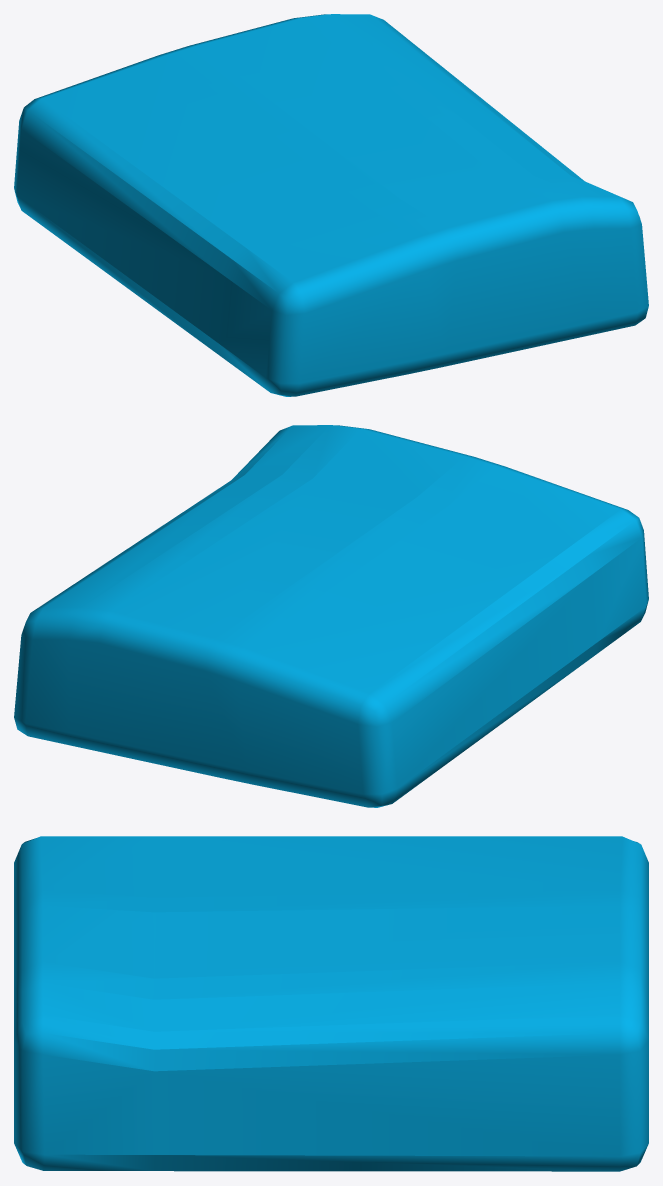
Rendered from Sofa_01_Break_C_Lod0.fbx.
3 views of the same model, one above another, from view 1: azimuth 30°, elevation 25°; view 2: azimuth 150°, elevation 25°; view 3: azimuth 270°, elevation 25° (orthographic). The views are drawn at different scales.
Parts seen in each view (by area): view 1: Sofa_01_Break_C_Lod0; view 2: Sofa_01_Break_C_Lod0; view 3: Sofa_01_Break_C_Lod0.
Part boxes in pixels (<box>): Sofa_01_Break_C_Lod0: <box>14,14,648,396</box>; Sofa_01_Break_C_Lod0: <box>14,425,648,807</box>; Sofa_01_Break_C_Lod0: <box>14,836,648,1171</box>.
Bounding box in the file's own units: 68.57 × 24.66 × 85.5.
